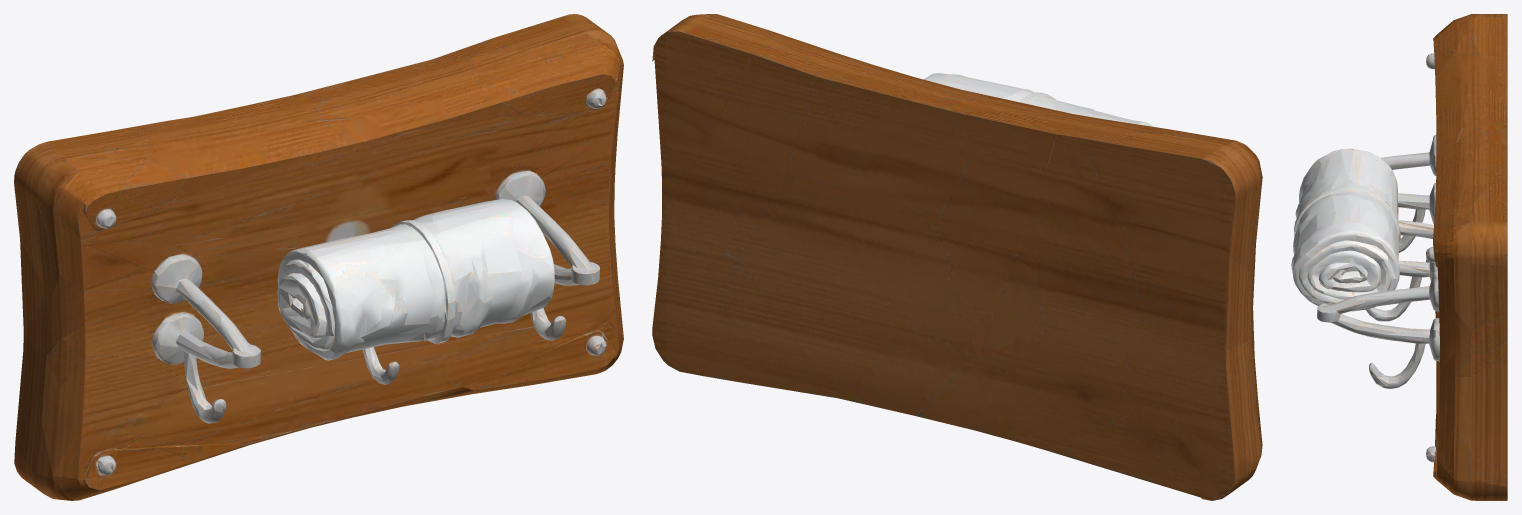
The model's file is towel_hooks.glb.
3 views of the same model, side by side, from view 1: azimuth 30°, elevation 25°; view 2: azimuth 150°, elevation 25°; view 3: azimuth 270°, elevation 25° (orthographic). The views are drawn at different scales.
Size of the model in its own units: 1.9 by 1.06 by 0.7542.
Materials: 1 (1 with a texture image).
